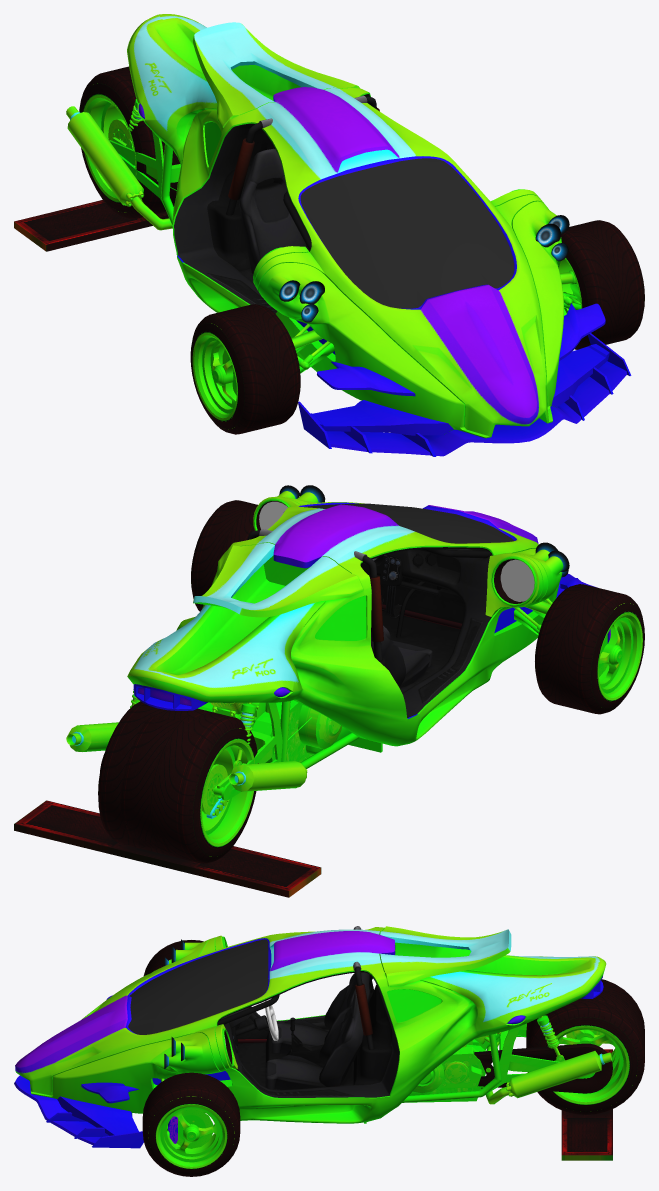
The model's file is Trex.fbx.
3 renders of one model, top to bottom at view 1: azimuth 30°, elevation 25°; view 2: azimuth 150°, elevation 25°; view 3: azimuth 270°, elevation 25°, orthographic. The views are drawn at different scales.
Visible parts, largest first — view 1: Aero_Body, windscreen, Aero_interior, Frontwheel_right, Frontwheel_left, Rear metal part, Rearwheel_mid, metal_plate, Headlight_Glow, Suspension_right; view 2: Aero_Body, Rearwheel_mid (×2), Aero_interior, Frontwheel_right, Rear metal part, metal_plate, Frontwheel_left, windscreen, rear_mirror_right, Headlight_Glow, Suspension_right; view 3: Aero_Body, Aero_interior, Frontwheel_left, Rear metal part, Rearwheel_mid (×2), windscreen, Seat, metal_plate, Frontwheel_right, Headlight_Glow.
Boxes of the visible parts, x1,y1,x2,y2 form: Aero_Body: (127,14,631,456); windscreen: (300,158,514,308); Aero_interior: (174,94,379,313); Frontwheel_right: (190,304,300,434); Frontwheel_left: (556,220,644,349); Rear metal part: (66,99,556,434); Rearwheel_mid: (79,66,180,218); metal_plate: (14,200,168,251); Headlight_Glow: (279,215,569,322); Suspension_right: (291,324,334,373); Aero_Body: (100,491,596,771); Rearwheel_mid (×2): (98,701,258,863); Aero_interior: (247,529,492,717); Frontwheel_right: (535,584,644,714); Rear metal part: (66,689,382,818); metal_plate: (14,800,321,897); Frontwheel_left: (191,500,257,611); windscreen: (304,503,513,543); rear_mirror_right: (500,559,534,601); Headlight_Glow: (279,485,569,577); Suspension_right: (513,598,552,635); Aero_Body: (14,926,612,1148); Aero_interior: (217,926,399,1097); Frontwheel_left: (142,1072,240,1176); Rear metal part: (132,1015,611,1123); Rearwheel_mid (×2): (526,979,644,1114); windscreen: (128,939,268,1034); Seat: (266,990,364,1089); metal_plate: (561,1049,612,1160); Frontwheel_right: (143,940,203,975); Headlight_Glow: (164,939,184,1068).
Bounding box in the file's own units: 2.74 × 1.41 × 4.67.
